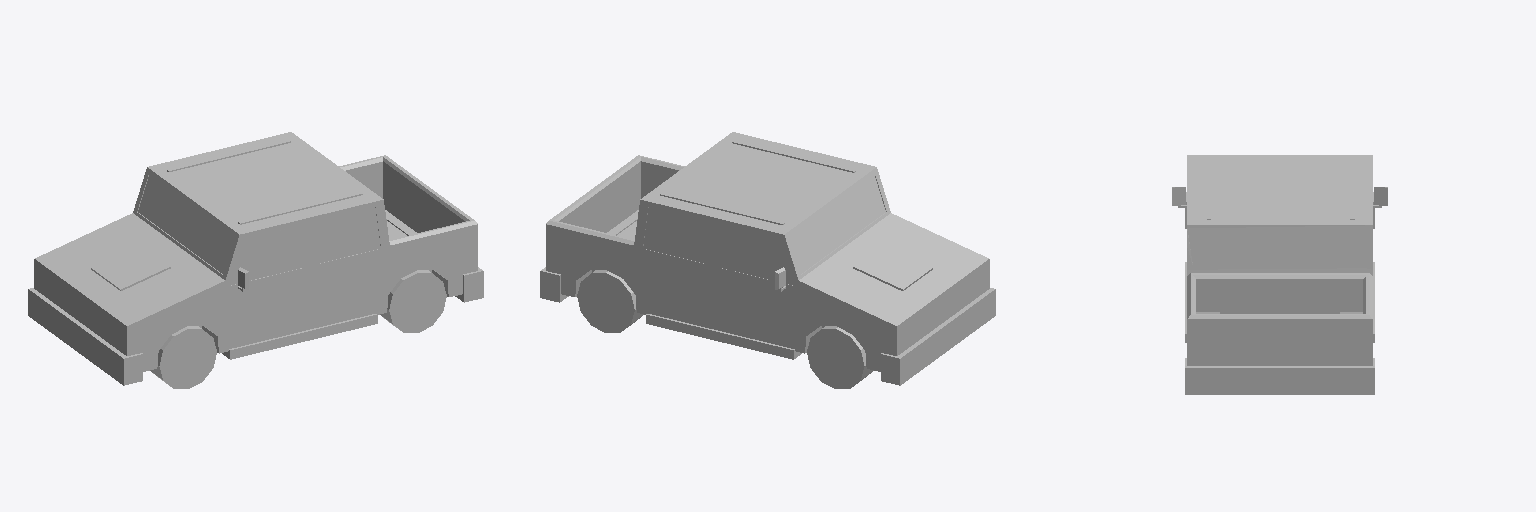
The model's file is Pick up Truck.obj.
3 views of the same model, side by side, from view 1: azimuth 30°, elevation 25°; view 2: azimuth 150°, elevation 25°; view 3: azimuth 270°, elevation 25° (orthographic).
Visible parts, largest first — view 1: Pick_up_Truck; view 2: Pick_up_Truck; view 3: Pick_up_Truck.
Part boxes in pixels (bbox=[...]): Pick_up_Truck: bbox=[28, 132, 483, 388]; Pick_up_Truck: bbox=[540, 132, 995, 388]; Pick_up_Truck: bbox=[1172, 155, 1387, 394].
Size of the model in its own units: 235 by 89.57 by 122.